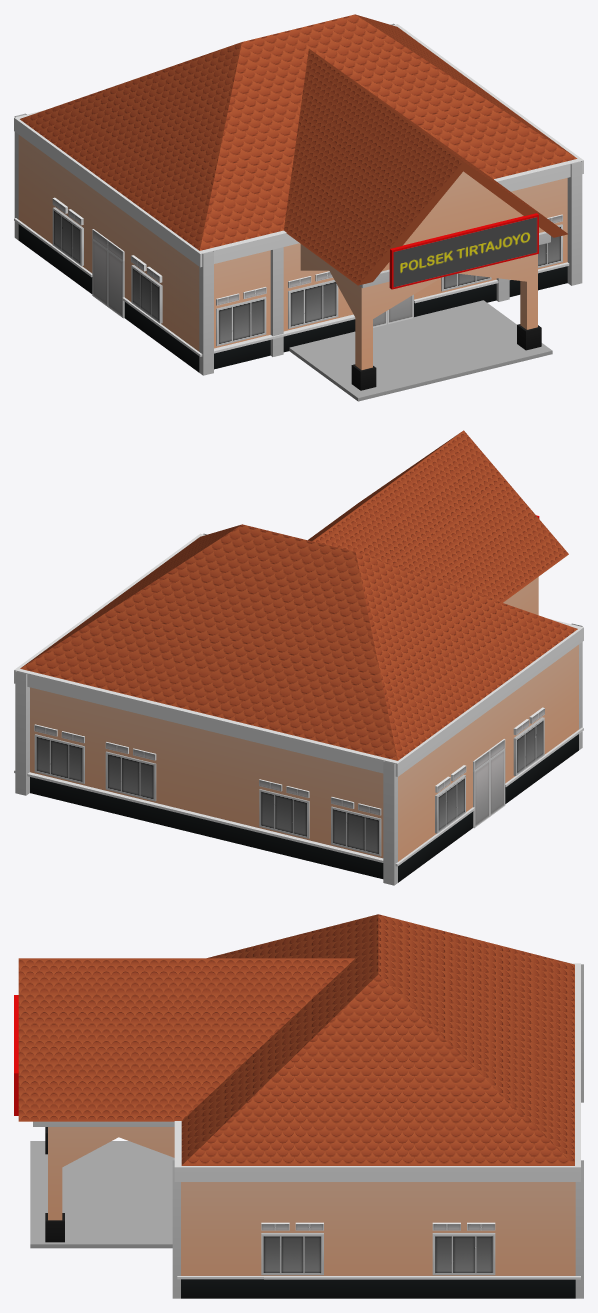
The model's file is Polres.fbx.
The picture shows the model from 3 angles, top to bottom: view 1: azimuth 30°, elevation 25°; view 2: azimuth 150°, elevation 25°; view 3: azimuth 270°, elevation 25°; orthographic projection. The views are drawn at different scales.
Visible parts, largest first — view 1: PolresBody1_LOD0, PolresBody2_LOD0; view 2: PolresBody1_LOD0, PolresBody2_LOD0; view 3: PolresBody1_LOD0, PolresBody2_LOD0.
Part boxes in pixels (x1,y1,x2,y2): PolresBody1_LOD0: [14, 14, 583, 401]; PolresBody2_LOD0: [52, 197, 562, 346]; PolresBody1_LOD0: [14, 430, 583, 885]; PolresBody2_LOD0: [34, 707, 544, 856]; PolresBody1_LOD0: [14, 914, 583, 1298]; PolresBody2_LOD0: [261, 1222, 495, 1275].
Size of what is drawn, in the model's own units: 1958 by 1130 by 2303.
